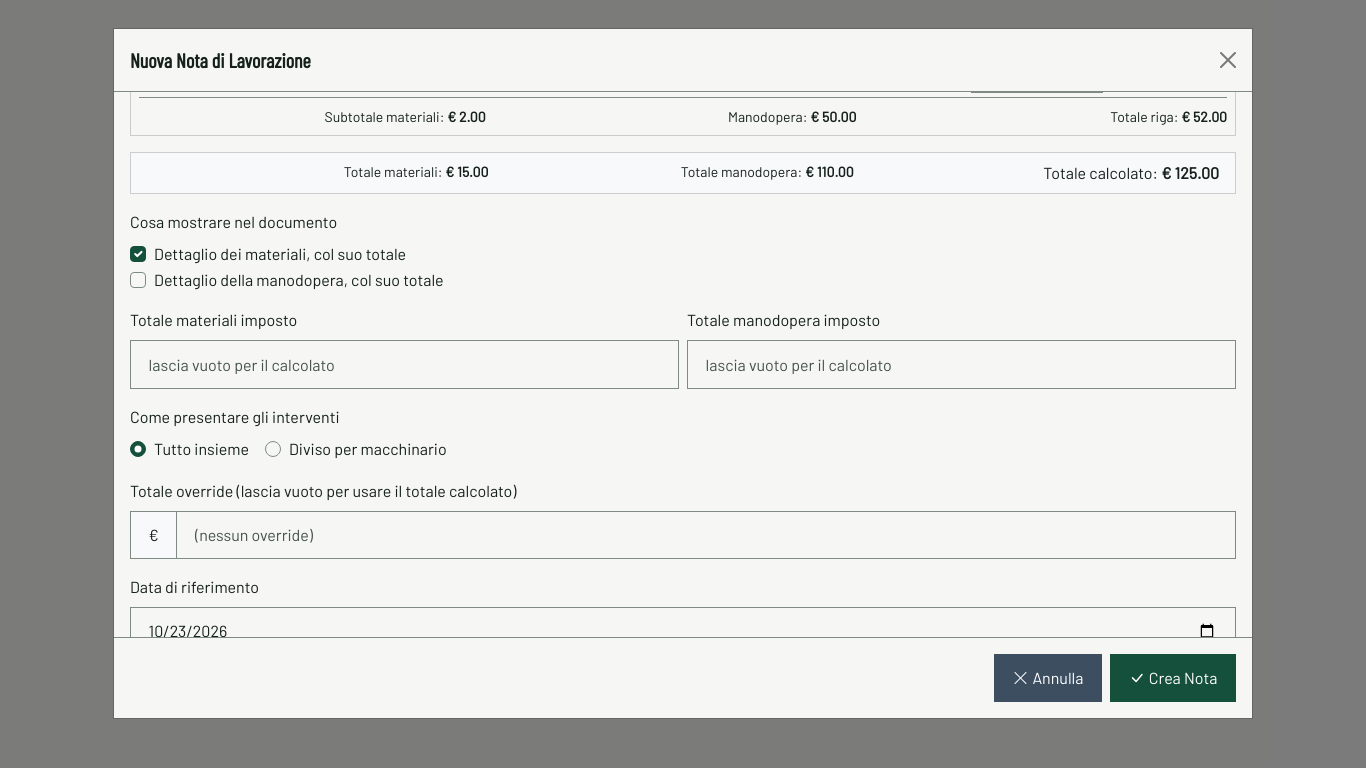
Test case: NotaLavorazioneFormModal — i dettagli seguono i totali imposti › togliendo l override il dettaglio torna selezionabile
(page scrolled)
Type "300" into the number field with test id "override-materiali". click: (404, 365)
box: [130,340,679,389]
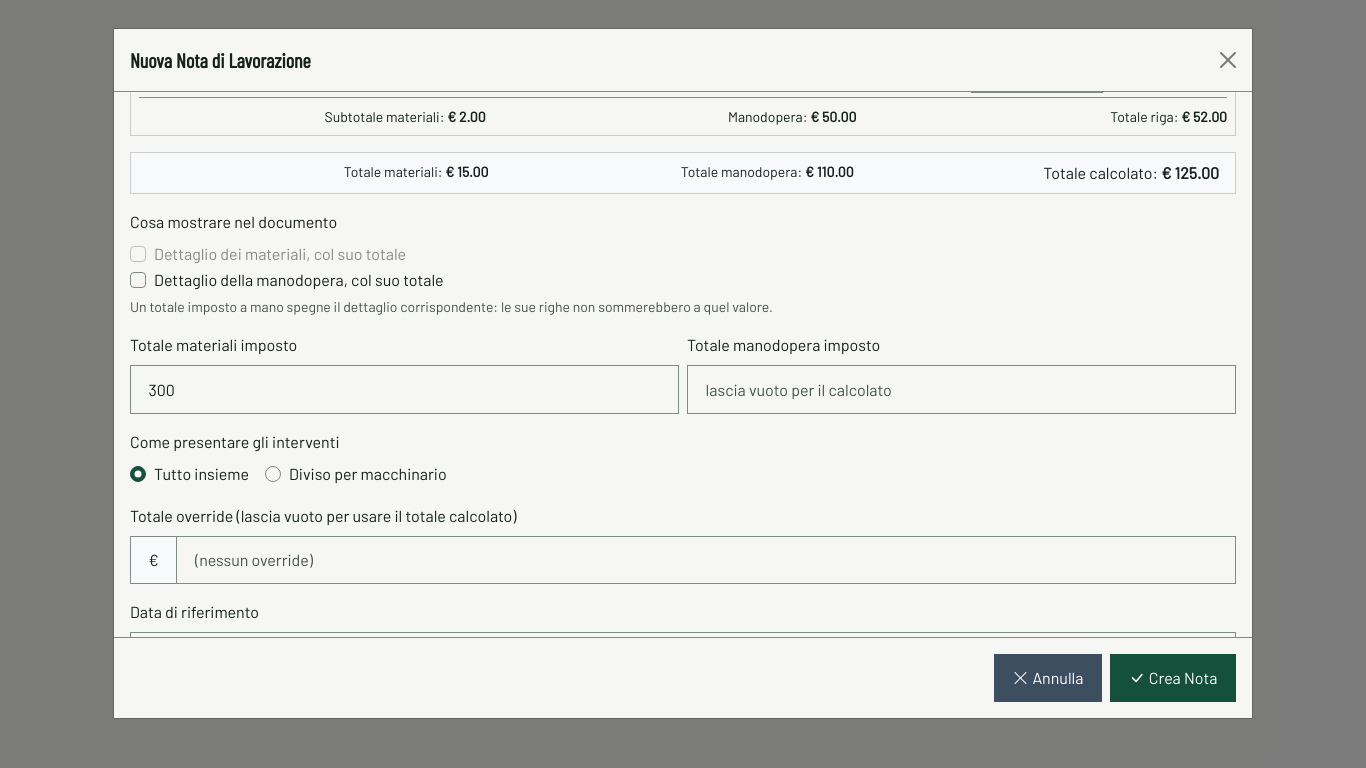
Clear the number field with test id "override-materiali". click: (404, 390)
box: [130,365,679,414]
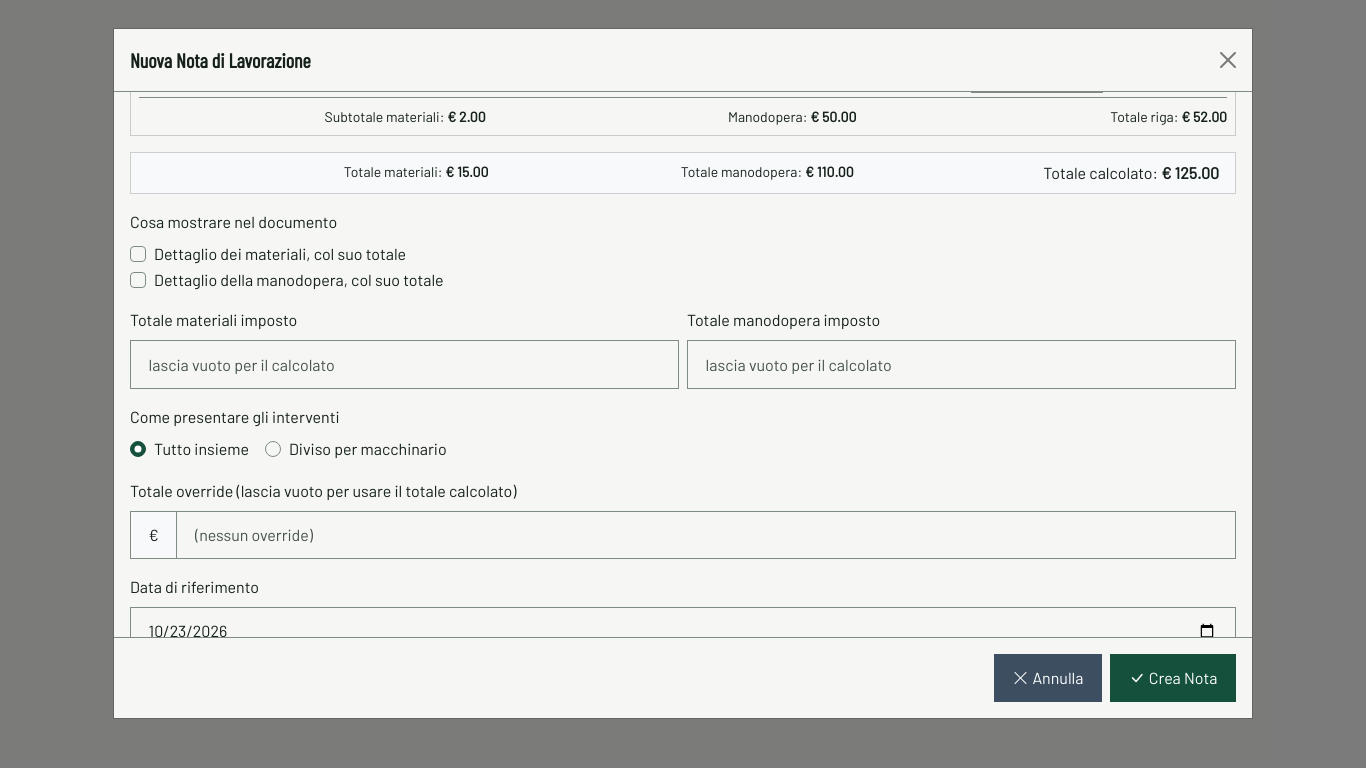
Expected: the checkbox with test id "dettaglio-materiali" is enabled, [130,246,146,262]
